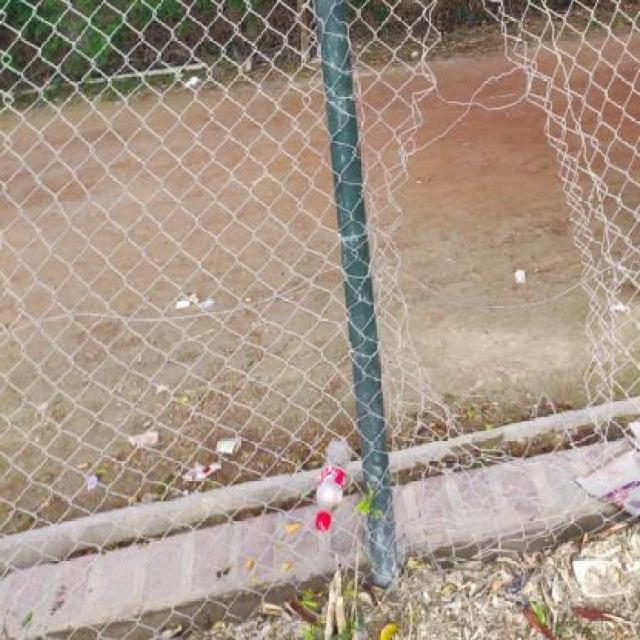fence line: (381, 8, 617, 472)
